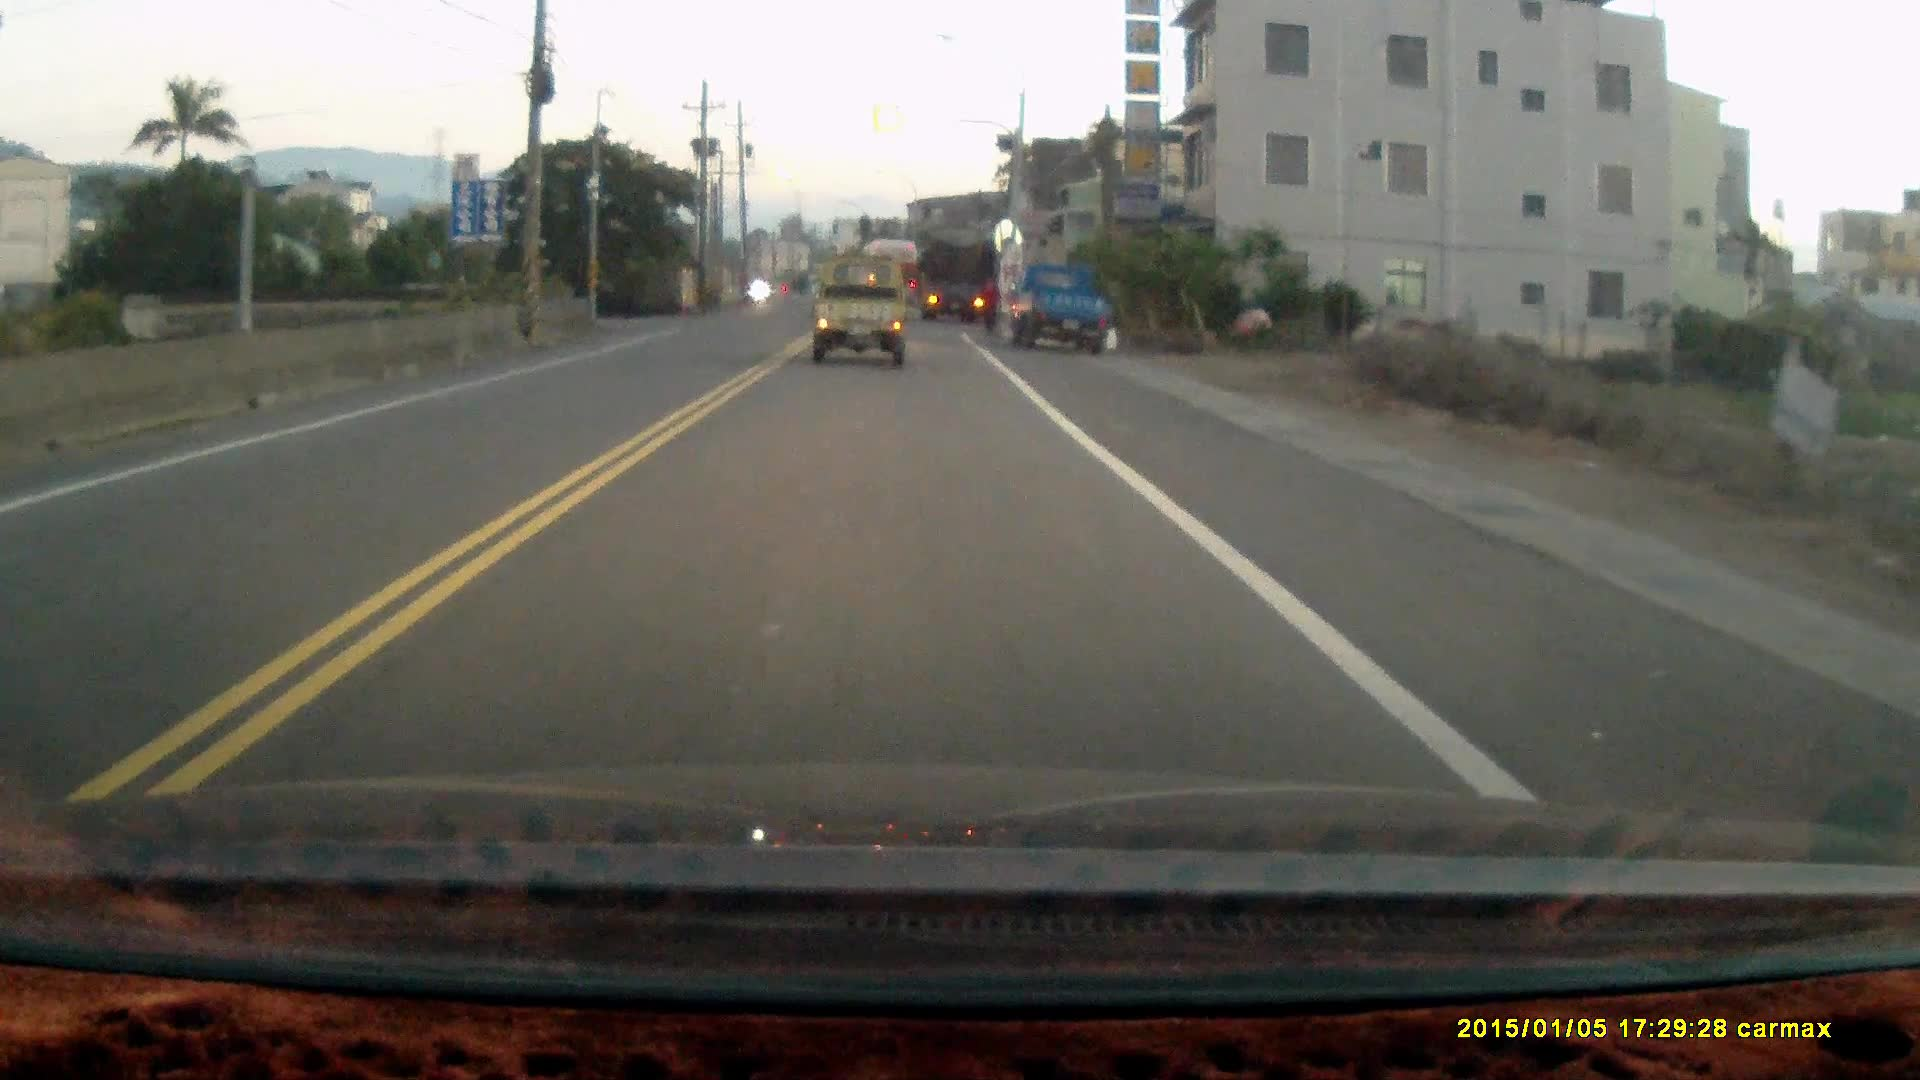vehicle: (810, 258, 913, 372), (1004, 262, 1117, 359), (920, 247, 997, 324)
